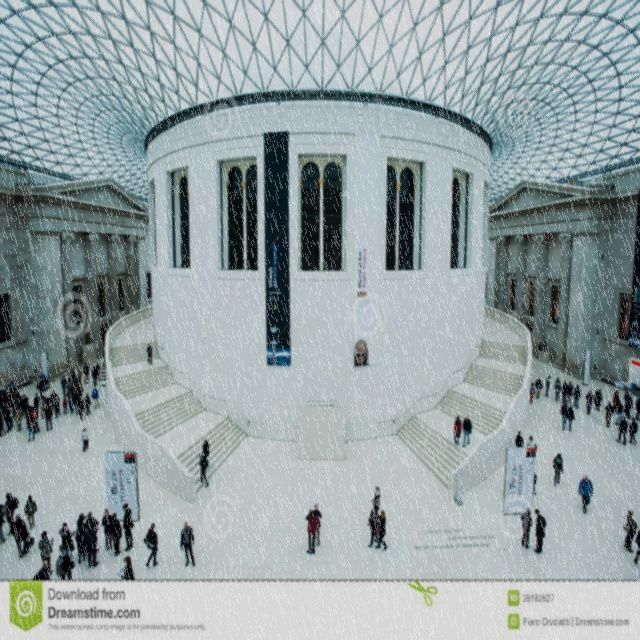pessoa: (54, 544, 76, 596), (10, 513, 30, 559), (179, 520, 196, 568), (576, 472, 594, 516), (532, 507, 548, 556), (142, 522, 159, 568), (84, 522, 100, 570), (3, 492, 20, 536), (622, 508, 638, 554), (121, 501, 135, 553), (108, 511, 123, 557), (37, 530, 53, 572), (306, 508, 319, 556), (374, 508, 388, 552), (74, 520, 88, 564), (520, 507, 534, 549), (23, 493, 38, 531), (614, 414, 630, 447), (367, 504, 379, 548), (101, 508, 113, 552), (59, 522, 76, 552), (369, 485, 382, 524), (524, 460, 538, 496), (197, 451, 210, 489), (312, 502, 323, 546), (354, 336, 370, 366), (118, 554, 136, 580), (32, 558, 52, 580), (461, 413, 473, 449), (552, 452, 564, 486), (558, 400, 570, 432), (26, 404, 36, 442), (452, 414, 463, 448), (627, 416, 639, 447), (602, 399, 614, 429), (42, 402, 54, 432), (632, 522, 640, 566), (570, 383, 582, 410), (592, 387, 604, 413), (80, 423, 90, 453), (566, 404, 576, 433), (75, 512, 88, 534), (584, 388, 594, 416), (76, 394, 86, 422), (2, 404, 12, 432), (84, 511, 100, 528), (90, 384, 100, 410), (84, 391, 94, 417), (0, 502, 6, 544), (31, 406, 40, 434), (4, 392, 22, 406), (552, 377, 562, 402), (533, 376, 543, 400), (202, 438, 210, 468), (52, 393, 61, 419), (32, 392, 41, 418), (625, 390, 633, 417), (612, 390, 621, 414), (49, 390, 58, 414), (616, 401, 624, 426), (566, 380, 574, 405), (514, 430, 525, 448), (40, 370, 49, 392), (66, 380, 80, 394), (560, 380, 568, 404), (38, 396, 46, 420), (146, 342, 154, 366), (36, 376, 44, 399), (15, 406, 22, 432), (82, 364, 90, 386), (82, 360, 90, 382), (545, 374, 552, 398), (66, 373, 74, 394), (91, 364, 98, 388), (68, 368, 76, 388), (537, 336, 547, 352), (22, 393, 28, 419), (529, 382, 536, 404), (72, 388, 79, 410), (44, 395, 51, 417), (526, 434, 536, 449), (68, 392, 74, 417), (94, 361, 101, 382), (634, 398, 640, 422), (624, 386, 632, 404), (60, 374, 66, 396), (0, 406, 4, 438), (76, 368, 83, 386), (30, 406, 37, 424), (62, 396, 68, 416), (8, 408, 14, 427), (14, 388, 20, 406), (0, 389, 4, 412), (77, 384, 83, 399), (74, 374, 80, 388), (6, 381, 14, 388), (2, 390, 6, 398)
